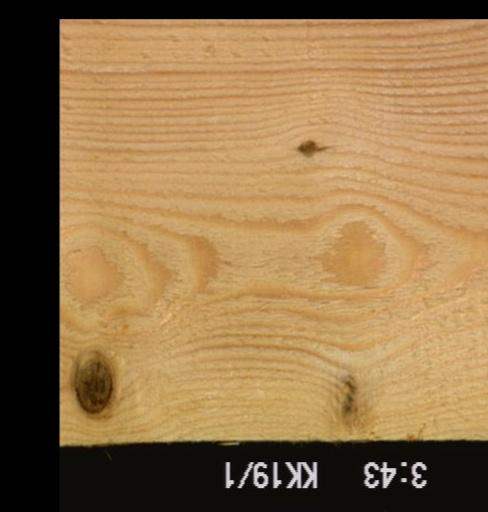dry_knot: (72, 356, 114, 416), (293, 138, 332, 159)
